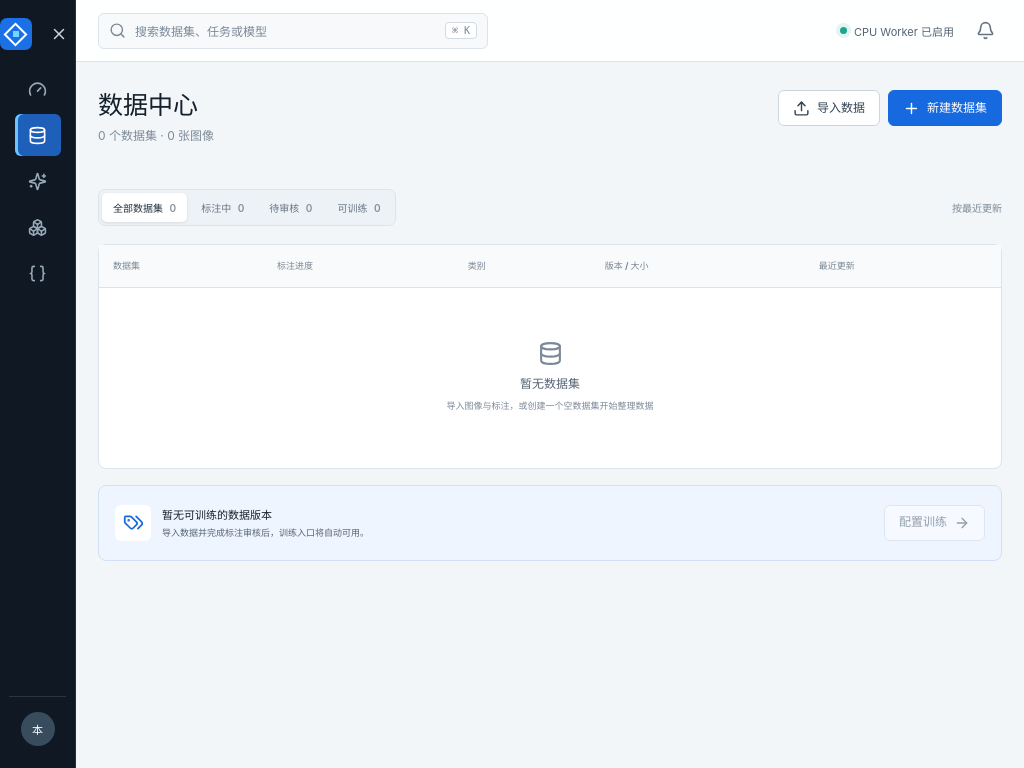
Scenario: platform prototype › creates datasets without binding a task type
Step 1. Click the button "新建数据集" → click(945, 108), box [888,90,1002,126]
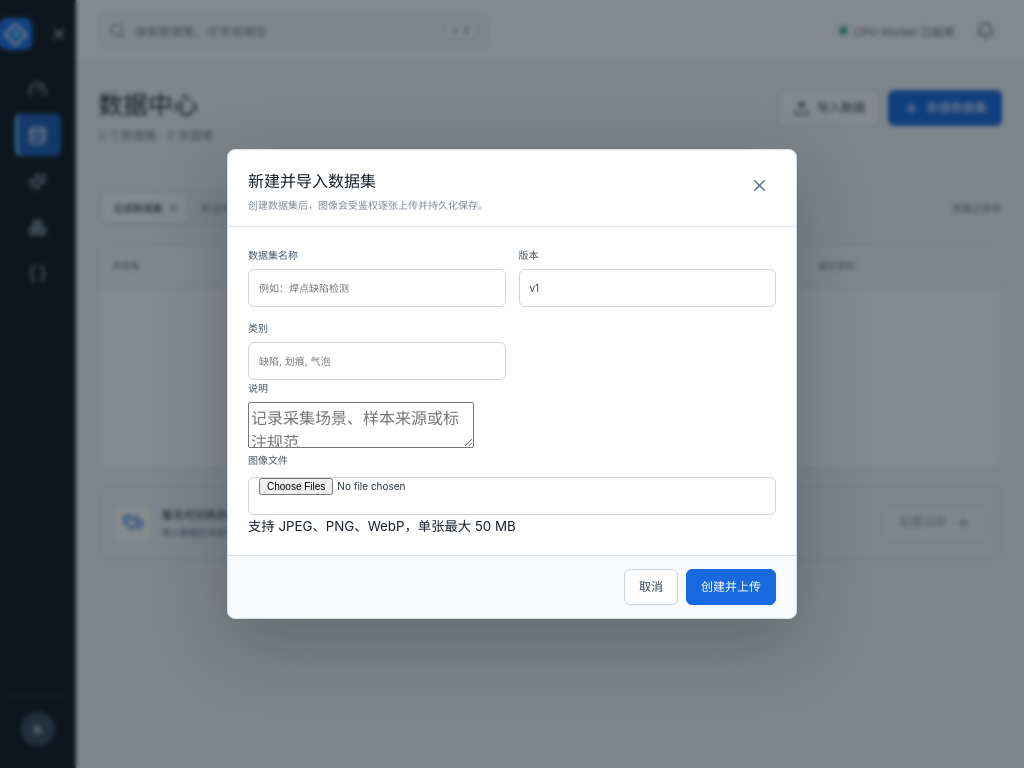
Check: the text "类别" is shown, box [248,322,268,334]
